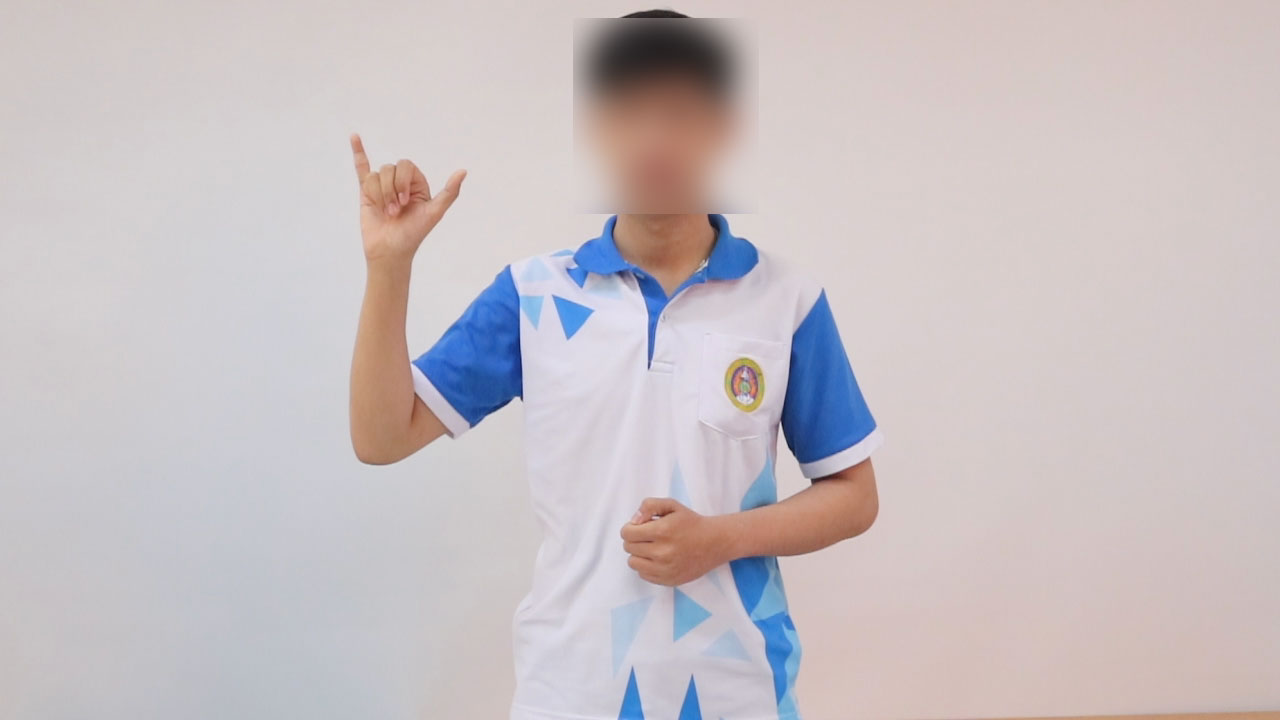yor: (338, 121, 472, 266)
